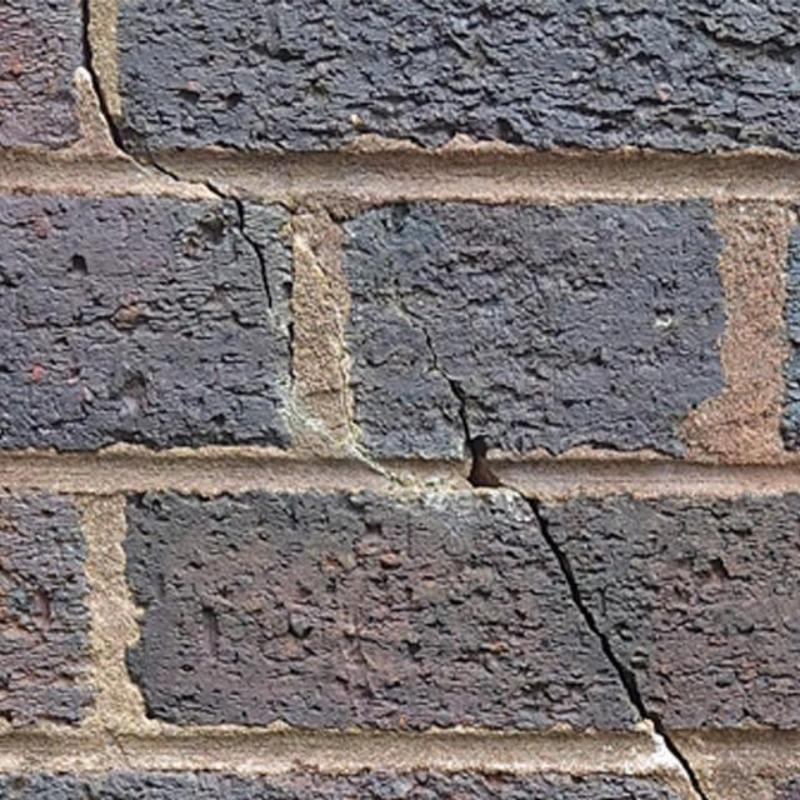pothole: (395, 279, 710, 800), (82, 1, 273, 309)
